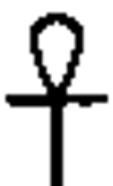Ankh: (0, 11, 113, 184)
